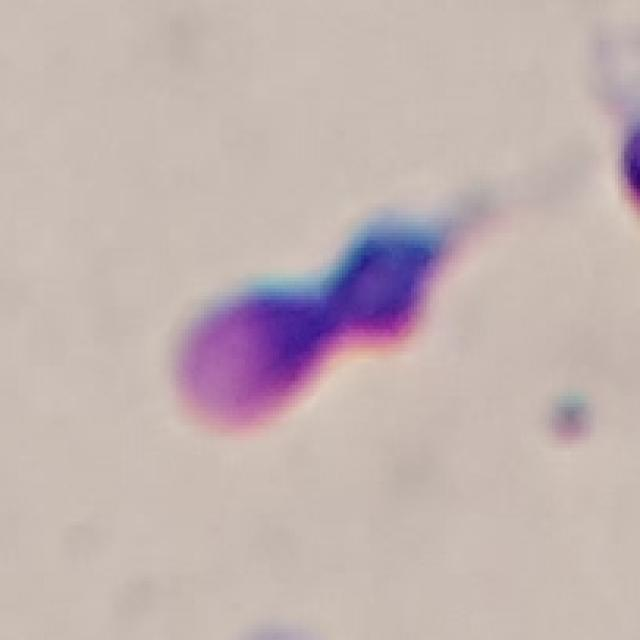abnormal sperm: (169, 178, 522, 435)
